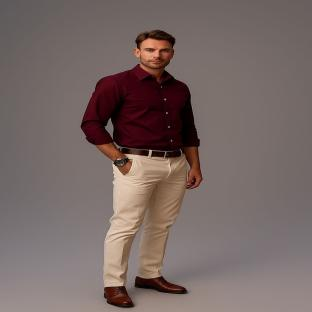Human: (81, 30, 202, 306)
